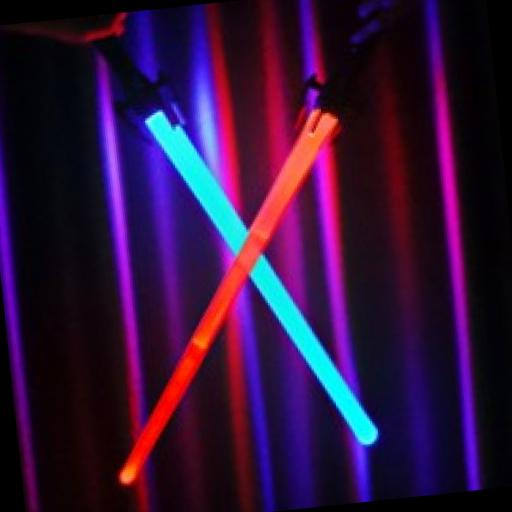lightsaber: (94, 18, 384, 473)
sith saber: (66, 12, 444, 486)
